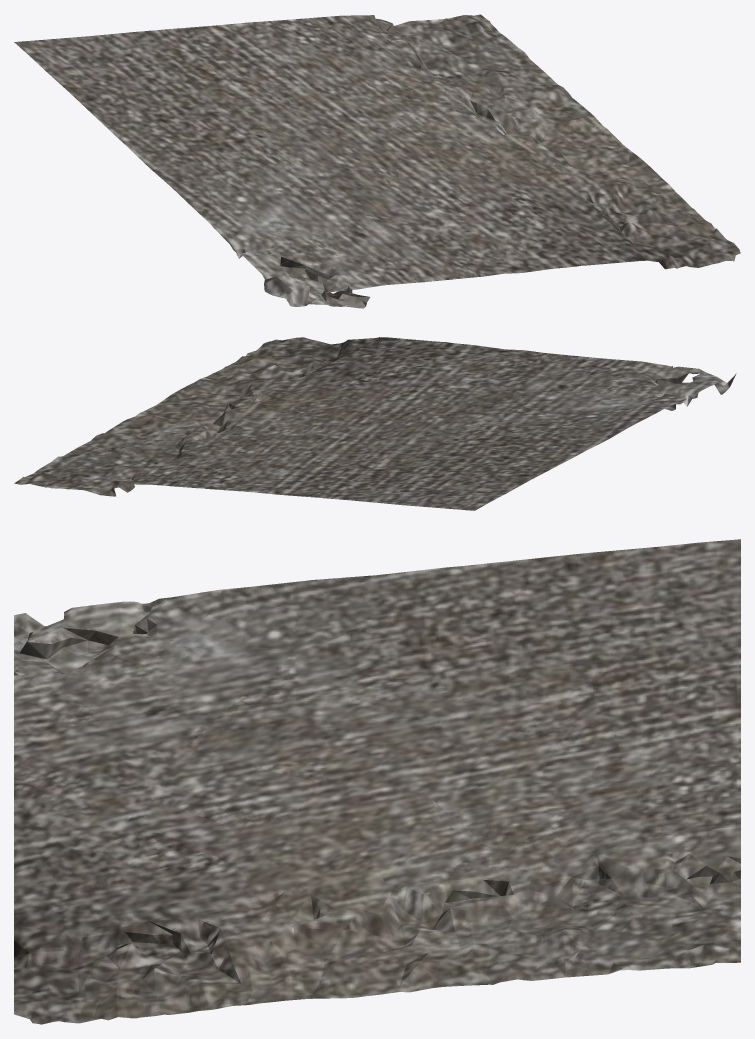
3 renders of one model, top to bottom at view 1: azimuth 30°, elevation 25°; view 2: azimuth 150°, elevation 25°; view 3: azimuth 270°, elevation 25°, orthographic. The views are drawn at different scales.
Bounding box in the file's own units: 0.8374 × 0.2265 × 0.8374.
Materials: 3 (3 with a texture image).
